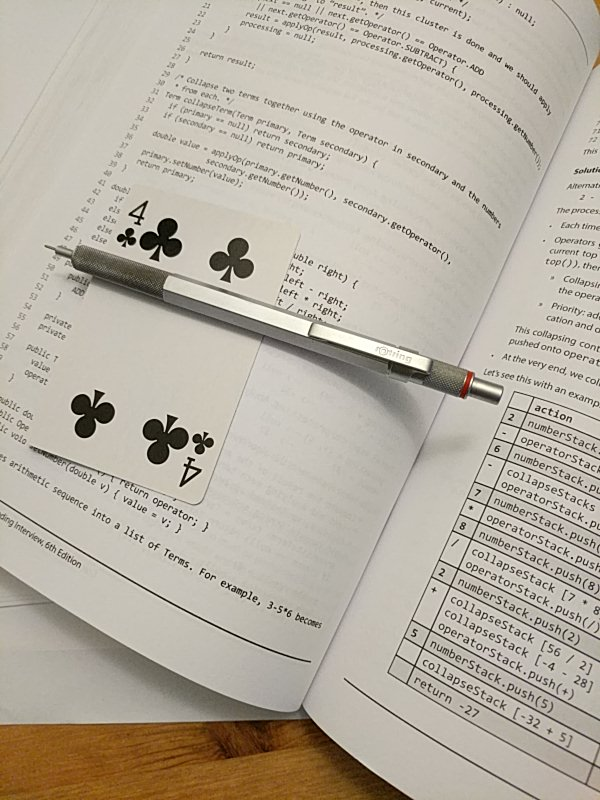Clubs: (26, 186, 303, 510)
